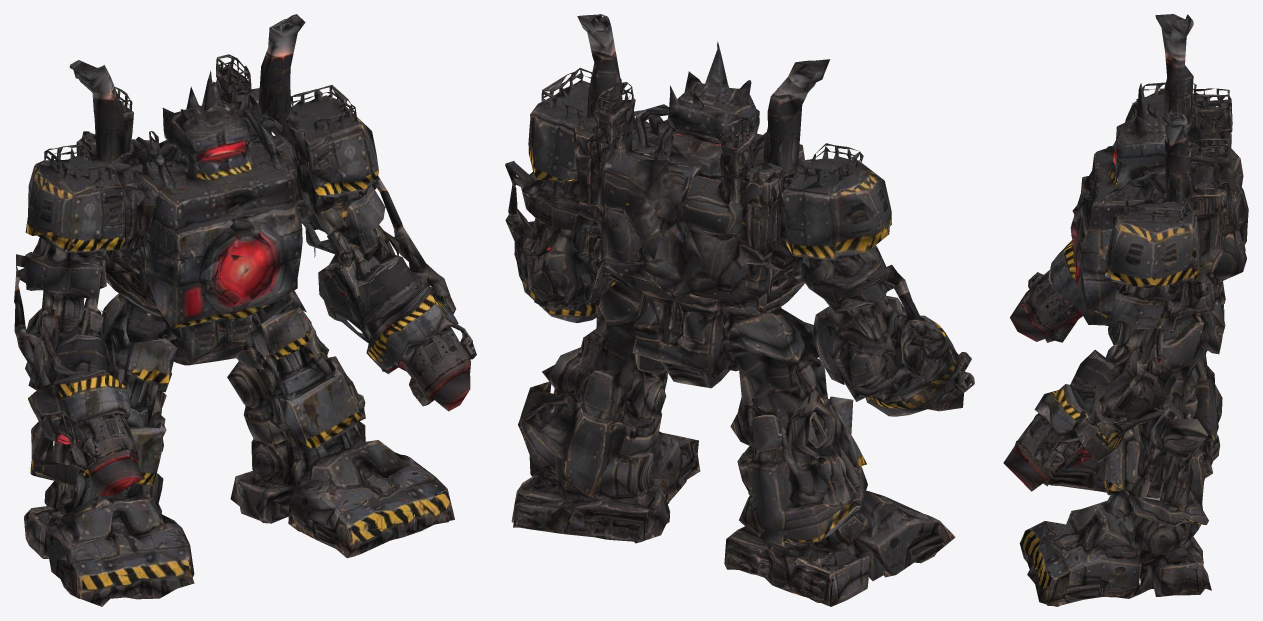
The model's file is titan.glb.
The picture shows the model from 3 angles, left to right: view 1: azimuth 30°, elevation 25°; view 2: azimuth 150°, elevation 25°; view 3: azimuth 270°, elevation 25°; orthographic projection. The views are drawn at different scales.
Bounding box in the file's own units: 1.71 × 1.89 × 0.9233.
1 material, 1 textured.
